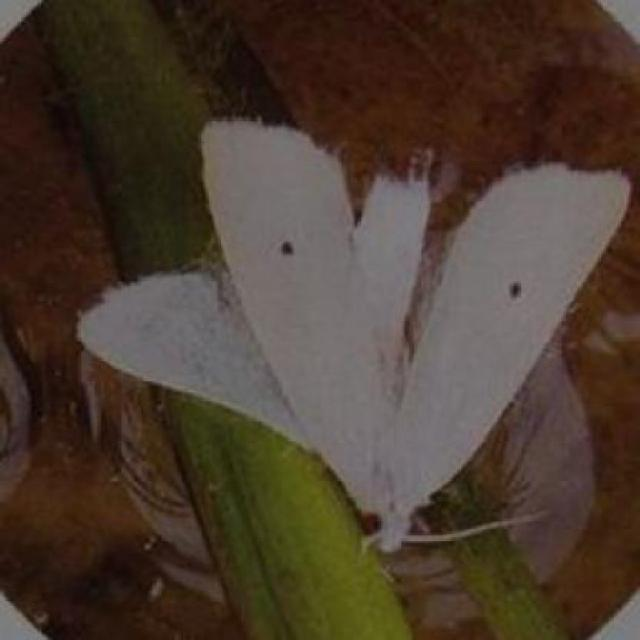stem-borer: (73, 120, 633, 554)
